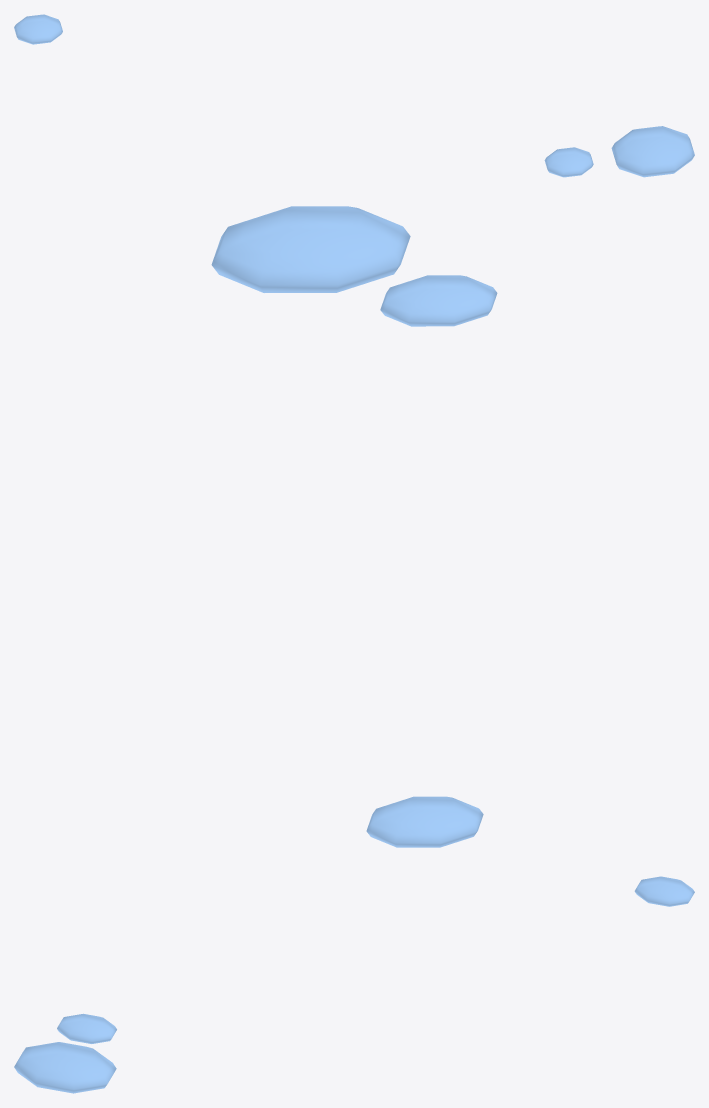
The model's file is stones_grp_1_merged.fbx.
3 renders of one model, top to bottom at view 1: azimuth 30°, elevation 25°; view 2: azimuth 150°, elevation 25°; view 3: azimuth 270°, elevation 25°, orthographic. The views are drawn at different scales.
Parts seen in each view (by area): view 1: stone_cluster1; view 2: stone_cluster1; view 3: stone_cluster1.
Part boxes in pixels (x1,y1,x2,y2): stone_cluster1: (14, 14, 694, 177); stone_cluster1: (211, 206, 497, 847); stone_cluster1: (14, 876, 694, 1093).
Size of the model in its own units: 90.45 by 4.27 by 124.
